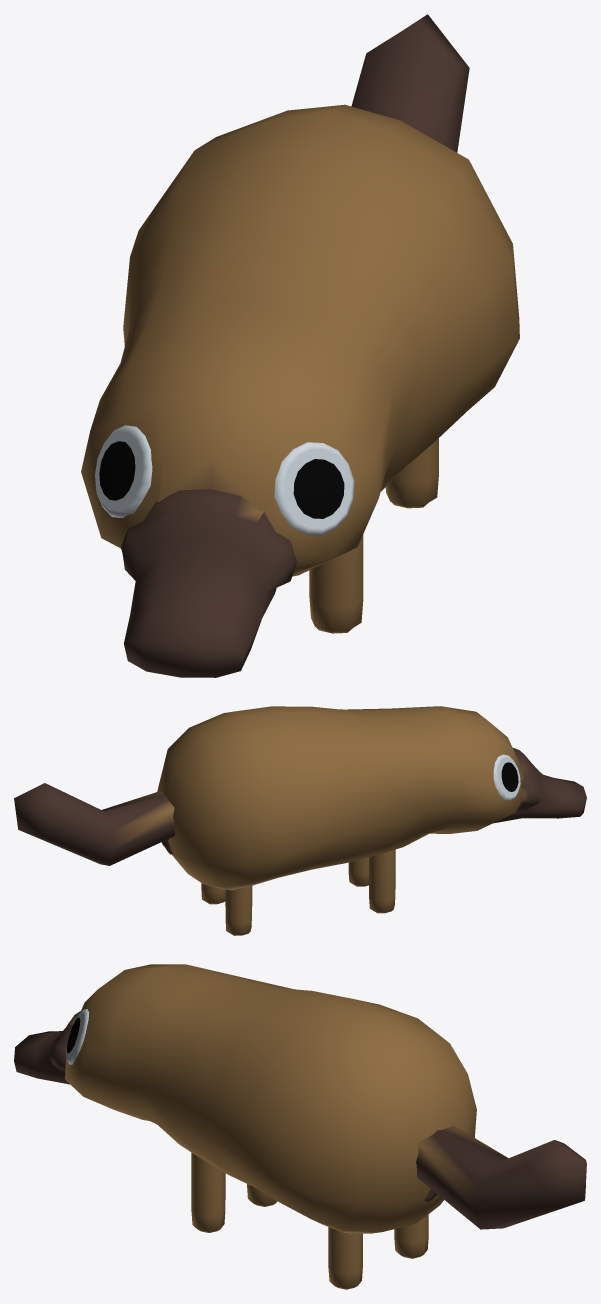
File: Platypus.glb
3 renders of one model, top to bottom at view 1: azimuth 30°, elevation 25°; view 2: azimuth 150°, elevation 25°; view 3: azimuth 270°, elevation 25°, orthographic. The views are drawn at different scales.
Parts seen in each view (by area): view 1: 125; view 2: 125; view 3: 125.
Part boxes in pixels (x1,y1,x2,y2): 125: (81, 14, 519, 677); 125: (14, 706, 586, 935); 125: (14, 964, 586, 1289).
Size of the model in its own units: 1.16 by 0.6012 by 1.26.
